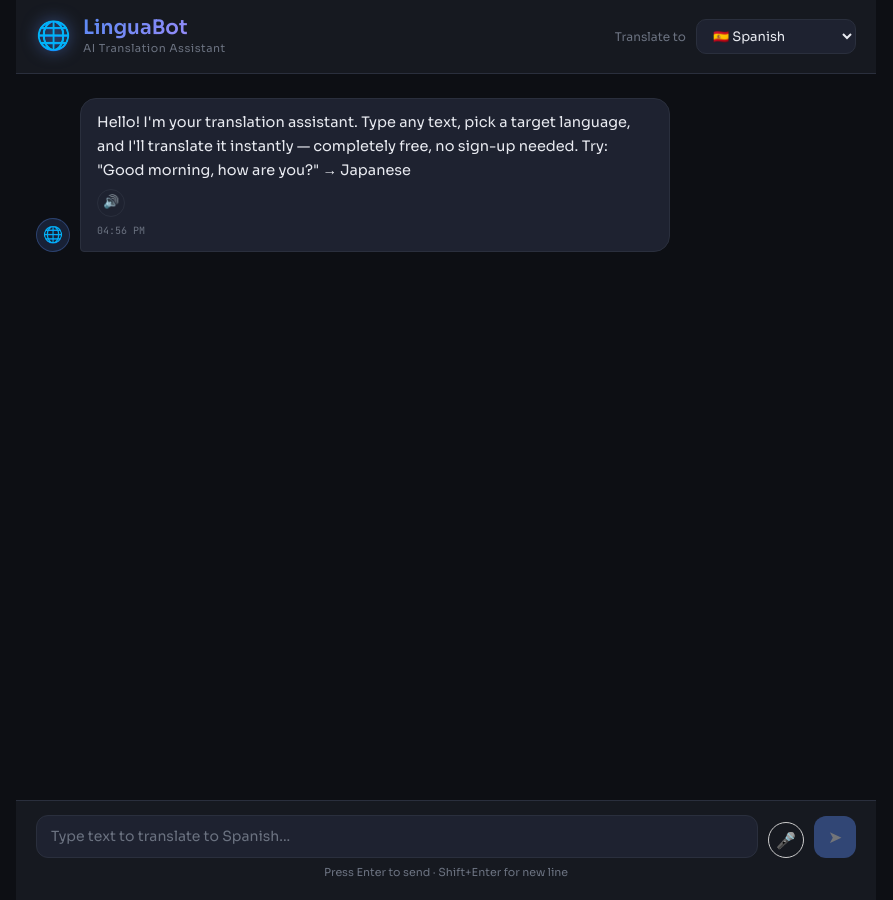
Integration: voice recognition wiring › a recognition error appends an assistant message with error text
Click the button named "Start voice input" at (786, 840), box 768,822 -> 804,858
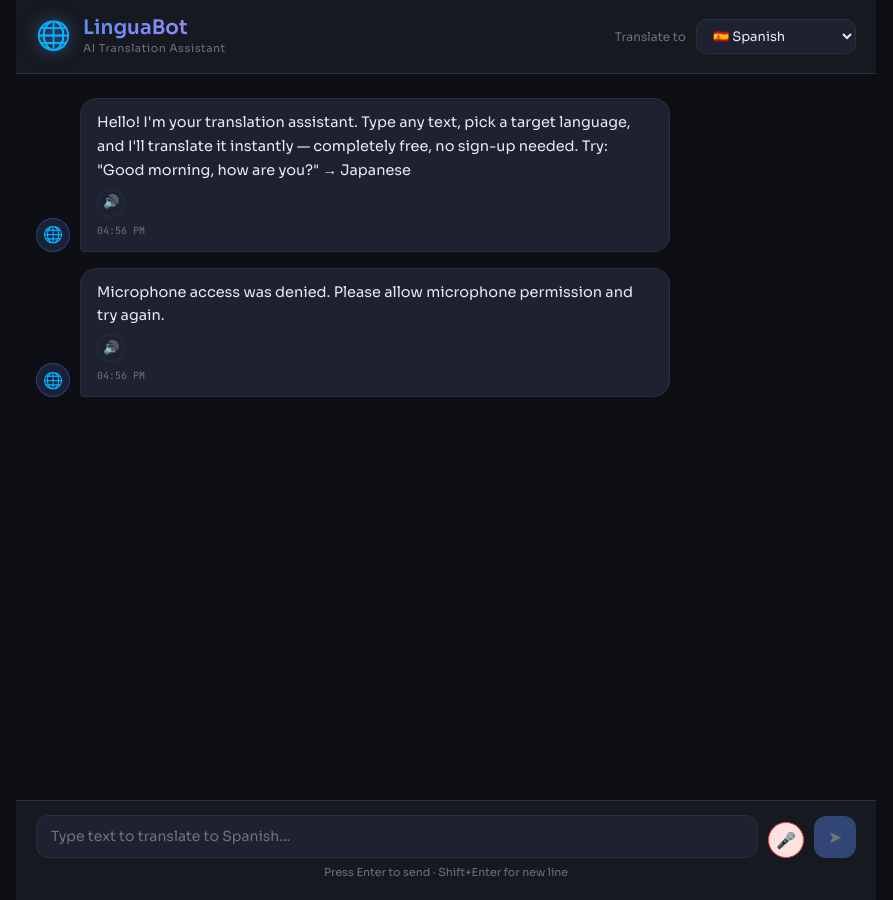
Now the text "Microphone access was denied" is shown, box 97,283 -> 636,324
